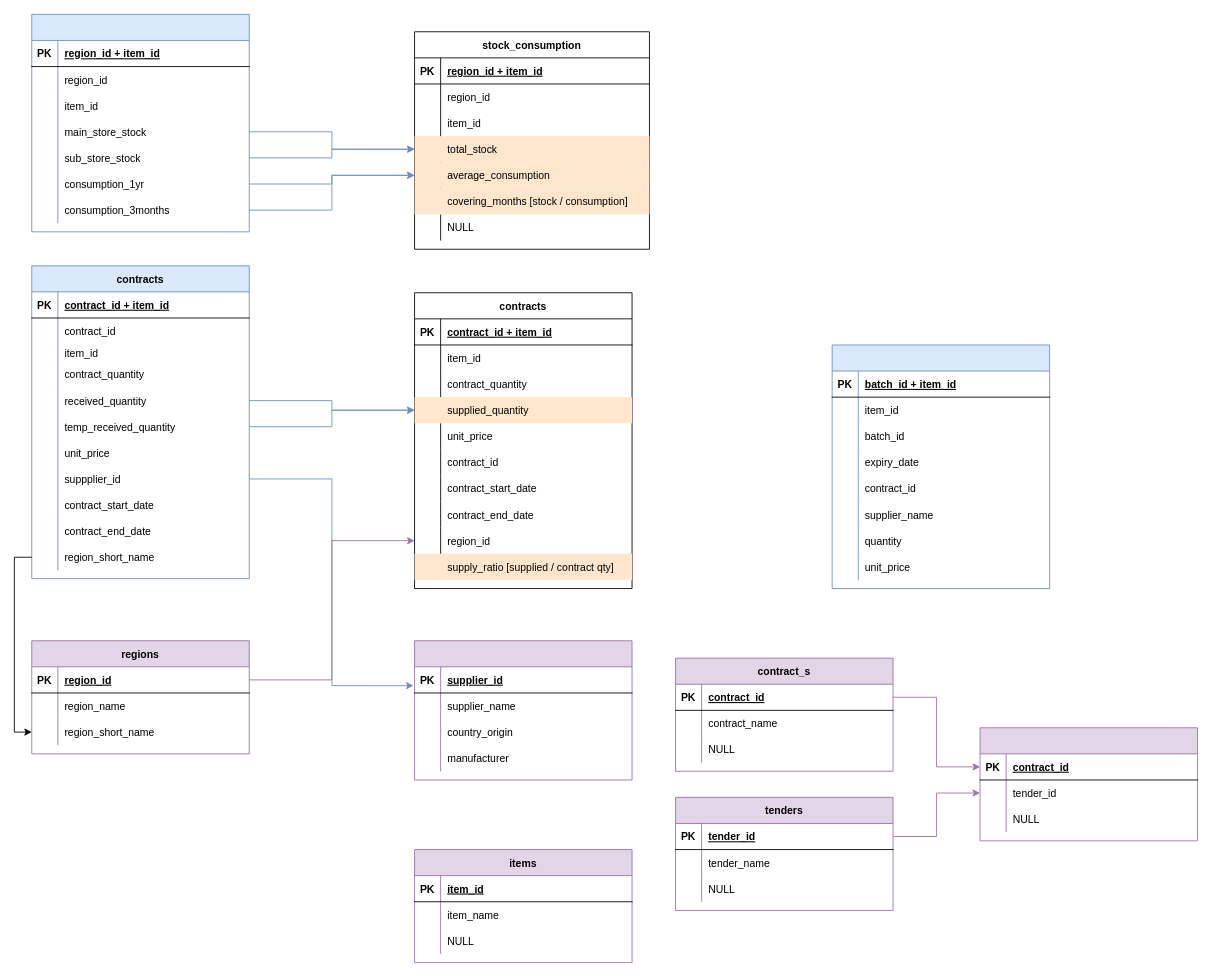
This 1212x977 diagram has some shape labels left out. The shapes that lost their labels are listed below. From the top down, each one's box as (x1, y1, x2, y2) in pixels, then its label:
(31, 13, 249, 232): onhand_report
(831, 344, 1050, 589): expiry_data
(414, 640, 632, 780): suppliers
(979, 727, 1198, 841): tender_contract
